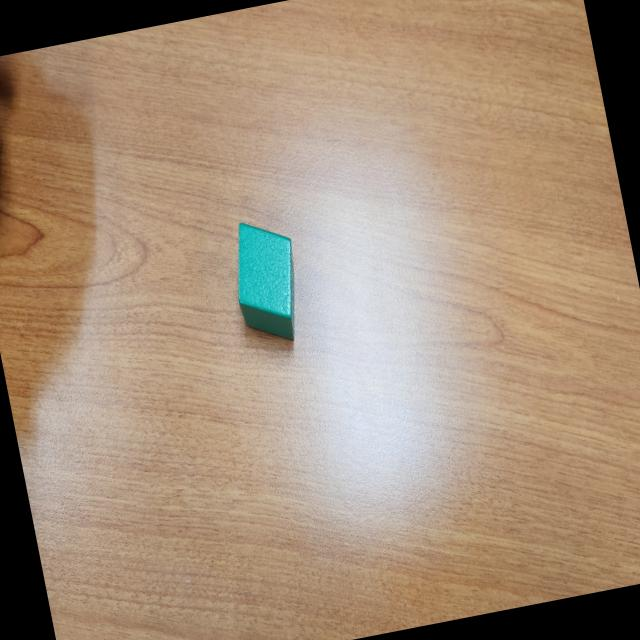green: (224, 213, 310, 350)
